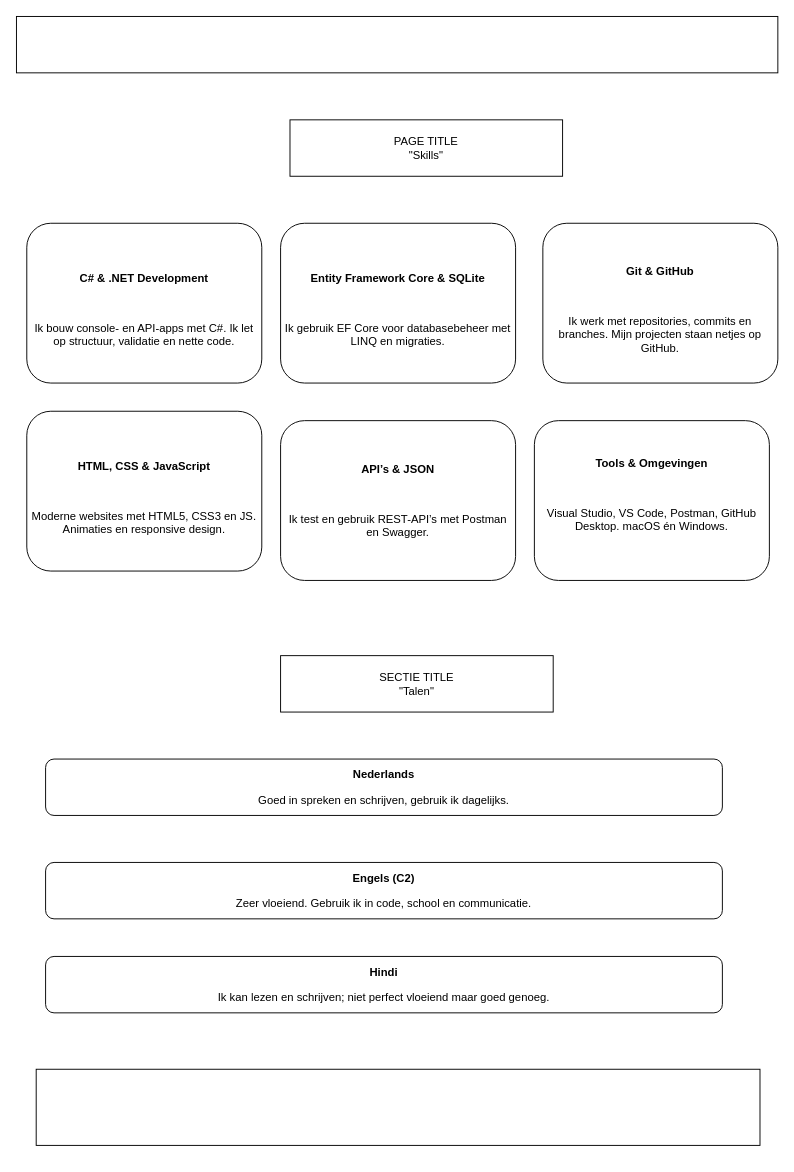
Some shapes in this 794 by 1172 pixel diagram are drawn without their labels. Each missing label, with the centre of its shape:
"FOOTER Tekst + Social Icons (Contact + GitHub)" goes at (397,1106).
"HEADER | [Logo] Home | Over mij | Opleidingen | Werkervaring | ..." goes at (397,44).
